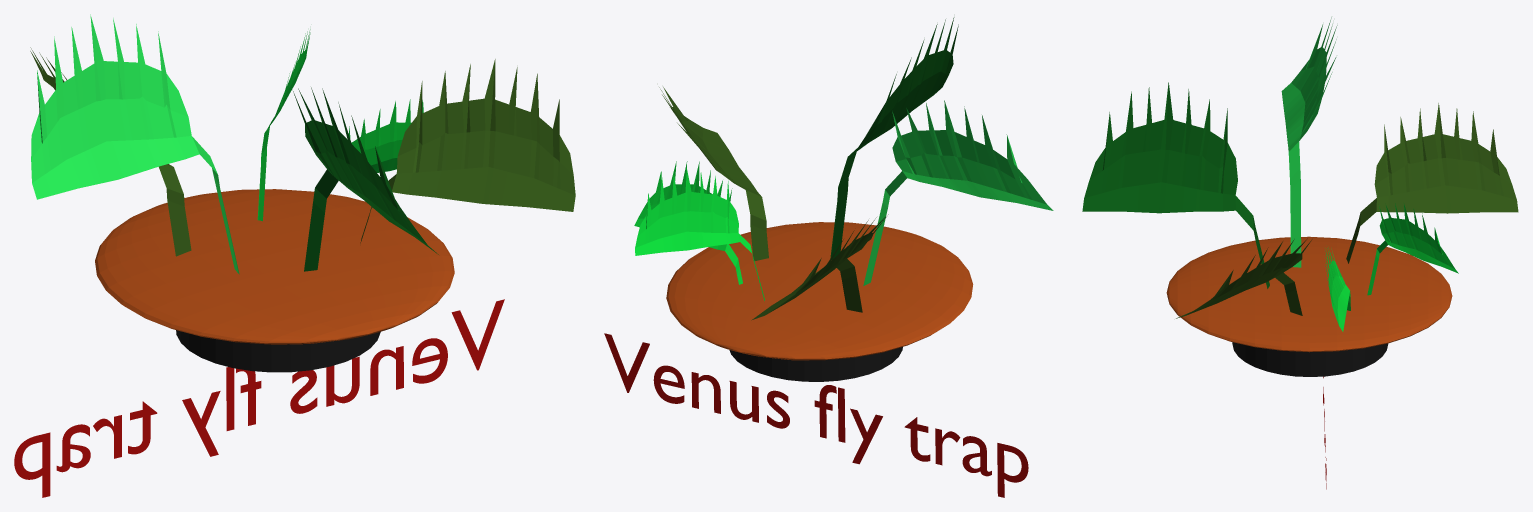
Rendered from venus fly trap .gltf.
3 views of the same model, side by side, from view 1: azimuth 30°, elevation 25°; view 2: azimuth 150°, elevation 25°; view 3: azimuth 270°, elevation 25° (orthographic). The views are drawn at different scales.
Visible parts, largest first — view 1: Cylinder, Plane.002, Plane.004, Text, Plane, Plane.003, Plane.001, Plane.005; view 2: Cylinder, Plane.002, Text, Plane.005, Plane, Plane.004, Plane.001, Plane.003; view 3: Cylinder, Plane, Plane.001, Plane.002, Plane.005, Plane.004, Plane.003.
Boxes of the visible parts, <box> form: Cylinder: <box>95,189,454,372</box>; Plane.002: <box>31,14,239,274</box>; Plane.004: <box>360,59,575,243</box>; Text: <box>14,299,504,497</box>; Plane: <box>293,87,438,271</box>; Plane.003: <box>348,99,423,172</box>; Plane.001: <box>30,47,191,256</box>; Plane.005: <box>257,29,310,221</box>; Cylinder: <box>666,222,973,381</box>; Plane.002: <box>863,100,1053,285</box>; Text: <box>604,333,1028,497</box>; Plane.005: <box>635,168,764,300</box>; Plane: <box>830,17,958,259</box>; Plane.004: <box>659,87,768,260</box>; Plane.001: <box>751,214,888,320</box>; Plane.003: <box>634,161,742,284</box>; Cylinder: <box>1166,236,1452,376</box>; Plane: <box>1082,82,1269,288</box>; Plane.001: <box>1346,103,1518,263</box>; Plane.002: <box>1281,17,1337,267</box>; Plane.005: <box>1367,203,1458,295</box>; Plane.004: <box>1176,238,1312,318</box>; Plane.003: <box>1325,247,1350,331</box>.
Size of the model in its own units: 5.59 by 4.96 by 5.6.
